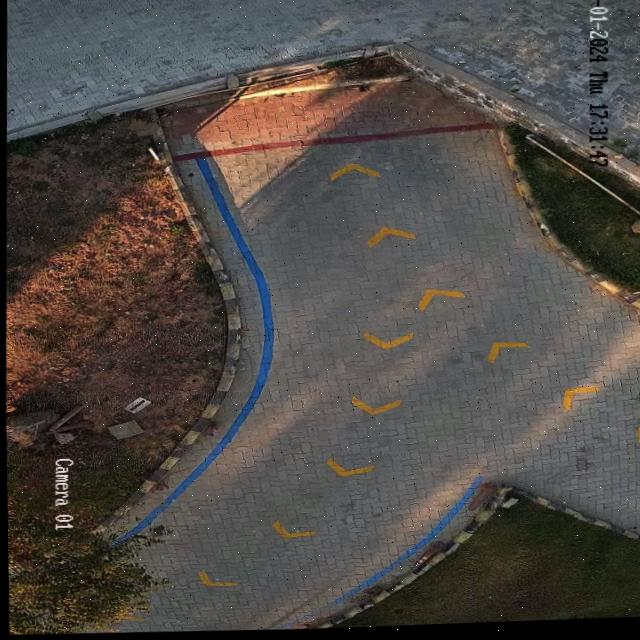No Car: (4, 0, 640, 634)
